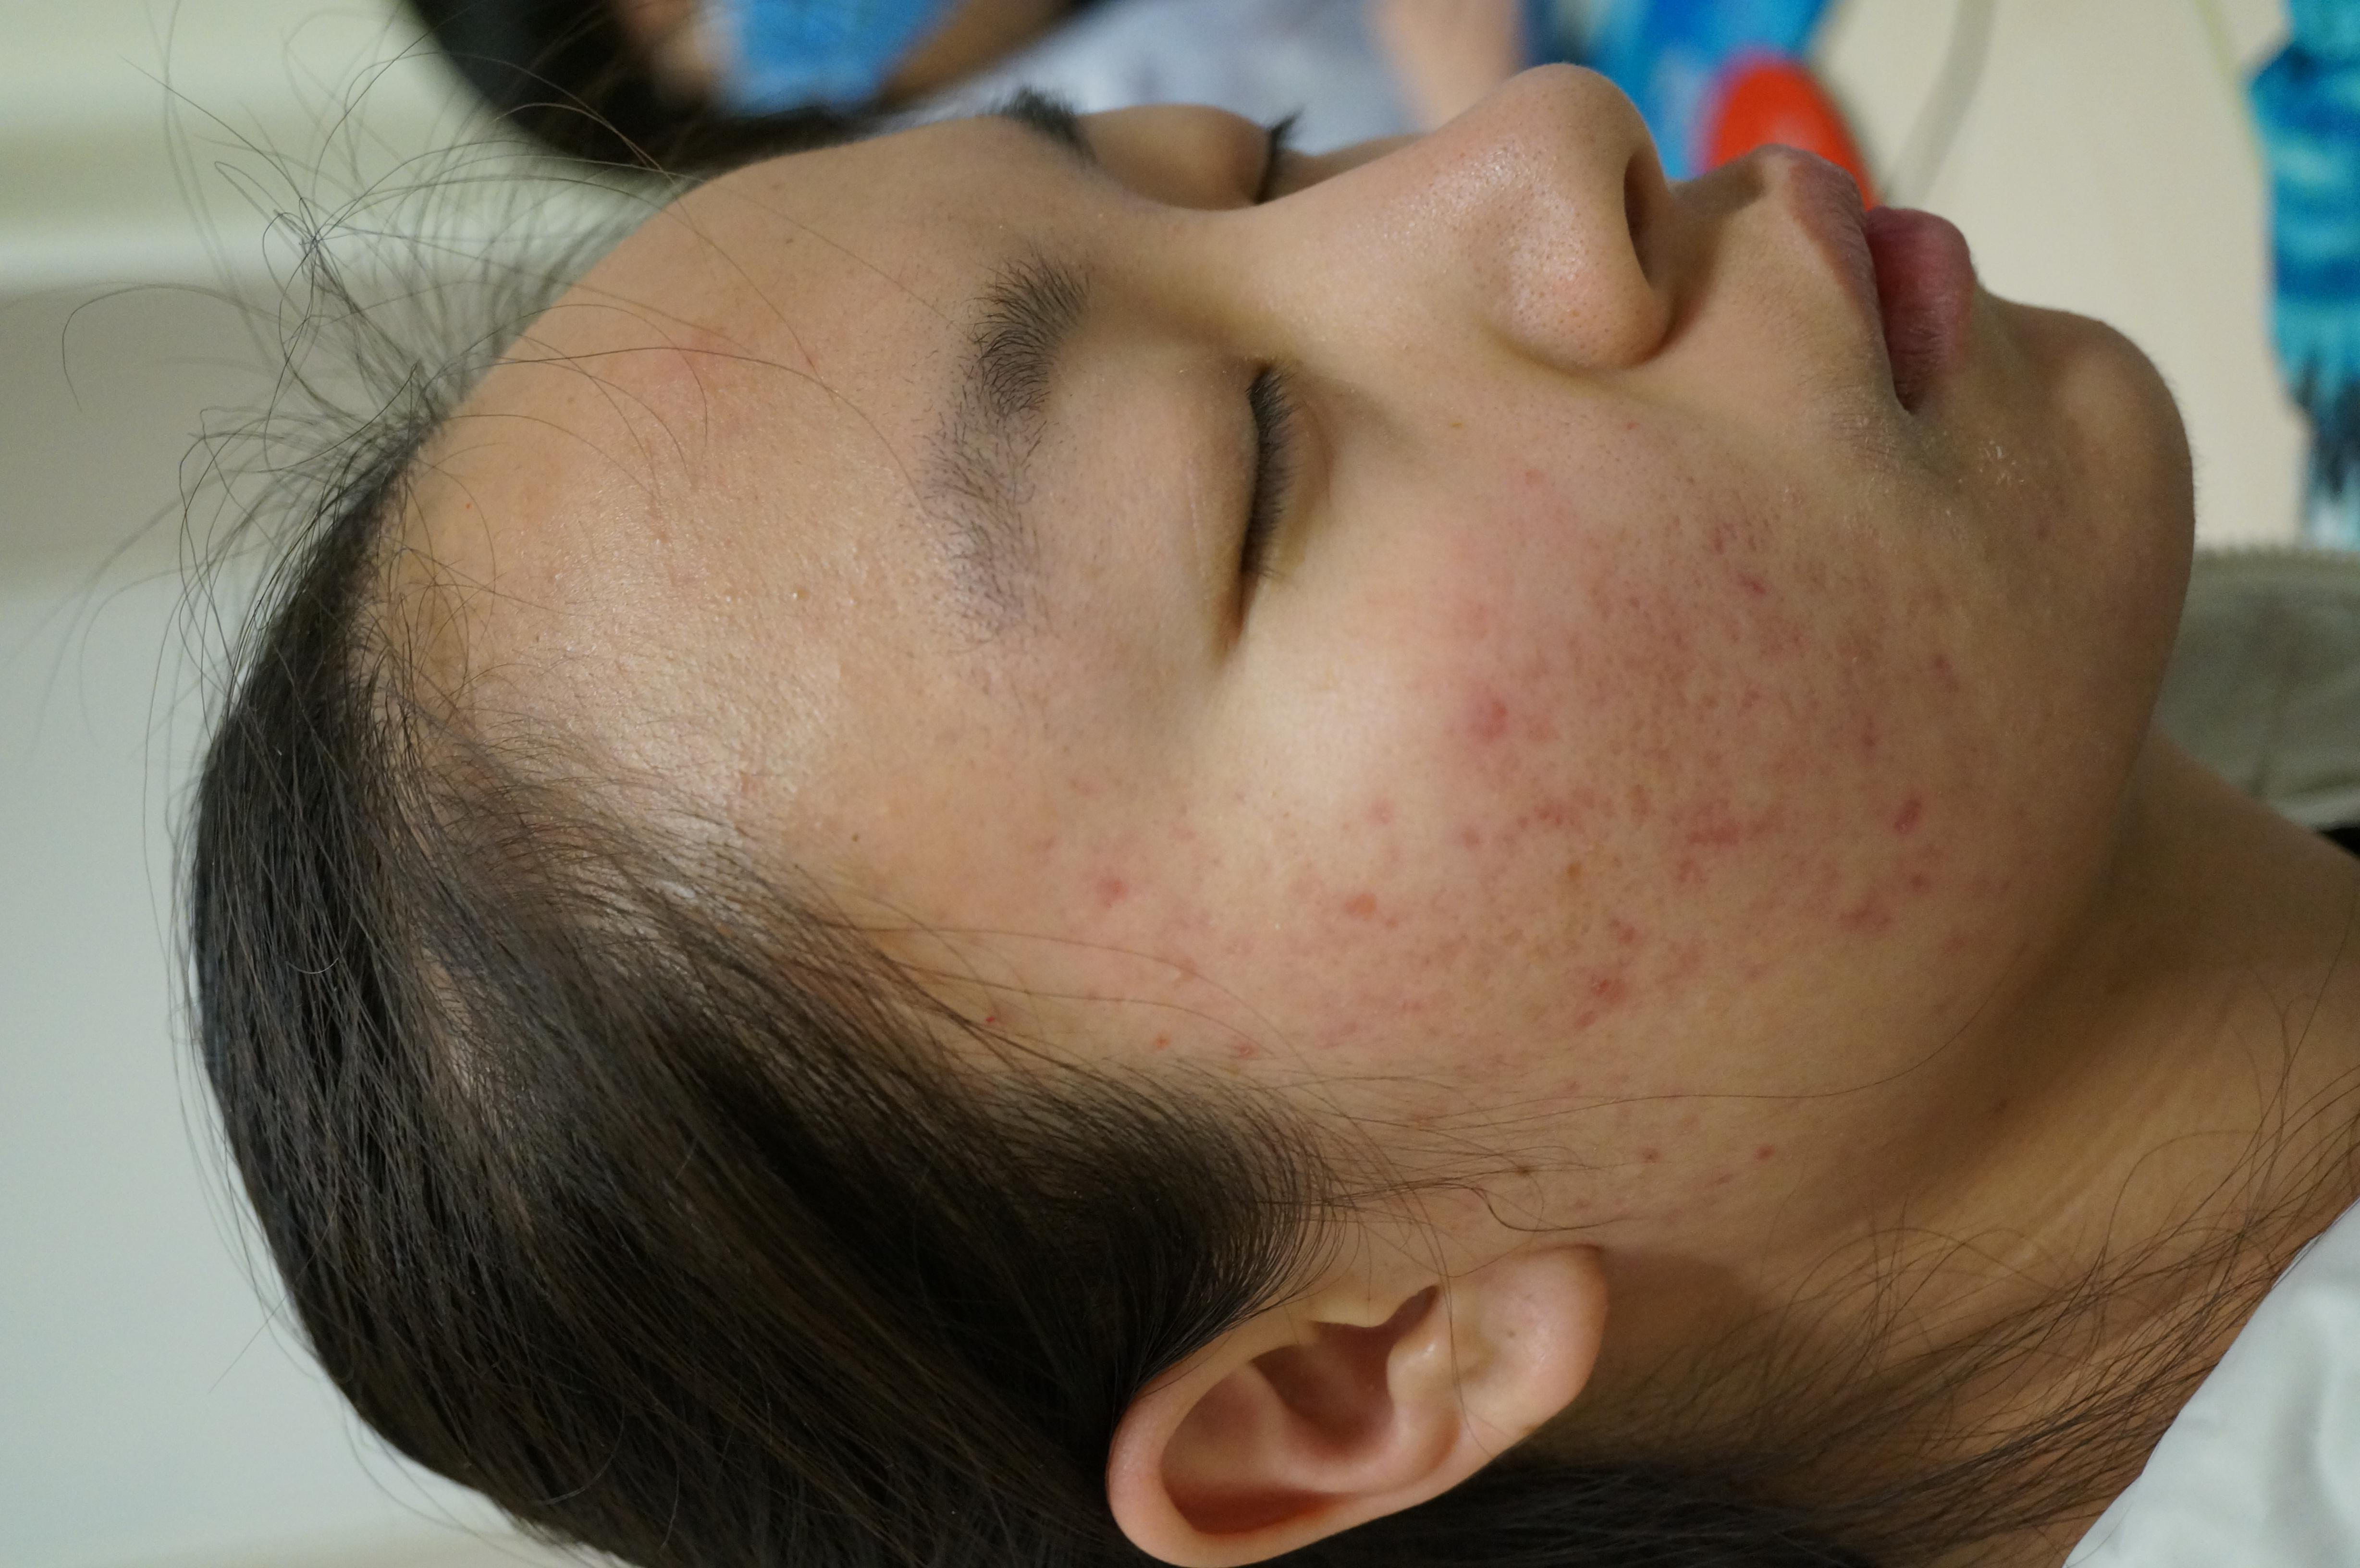fore: (1424, 681, 1540, 780), (1923, 621, 2000, 724), (1664, 793, 1772, 864), (1872, 786, 1968, 845), (1840, 868, 1907, 952), (1536, 948, 1632, 1001), (1548, 773, 1627, 836), (1828, 702, 1884, 768)
